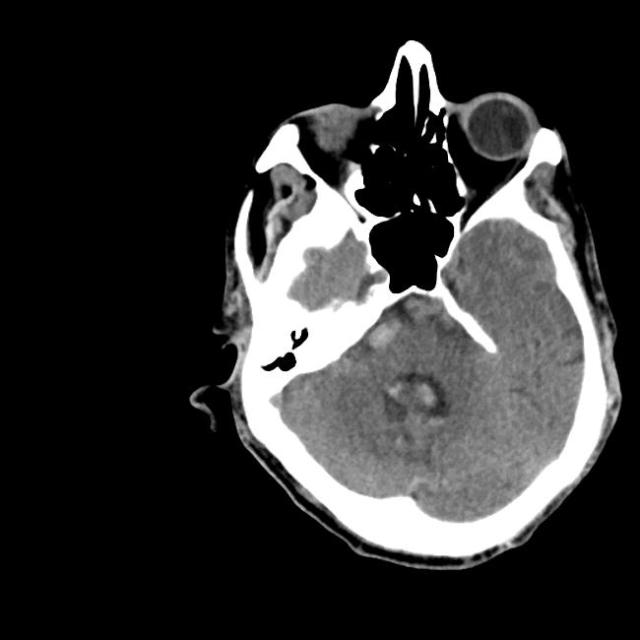lesion: (191, 38, 623, 571)
